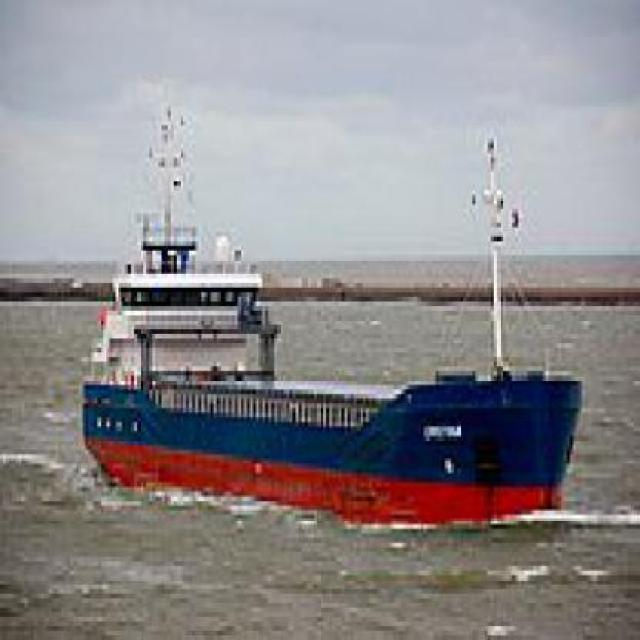container: (65, 107, 586, 540)
